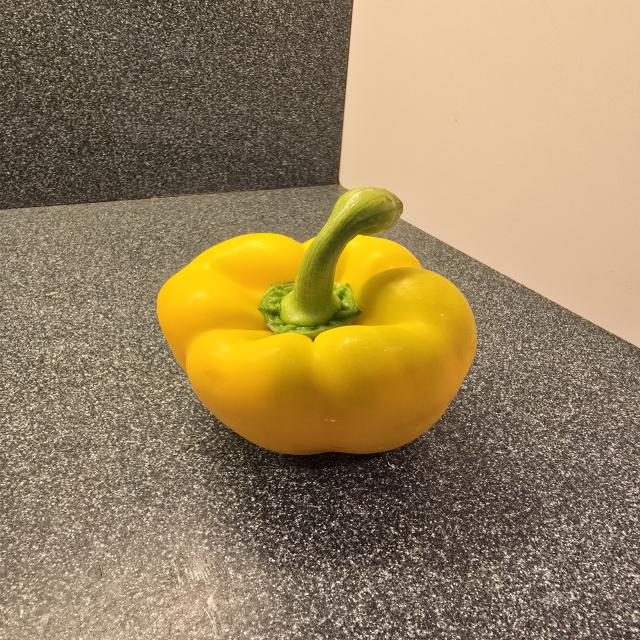Bell Pepper: (141, 175, 492, 467)
